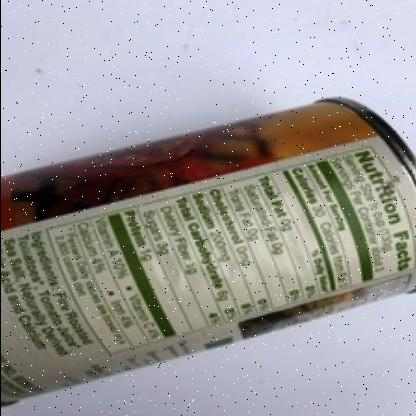Can: (0, 98, 416, 406)
